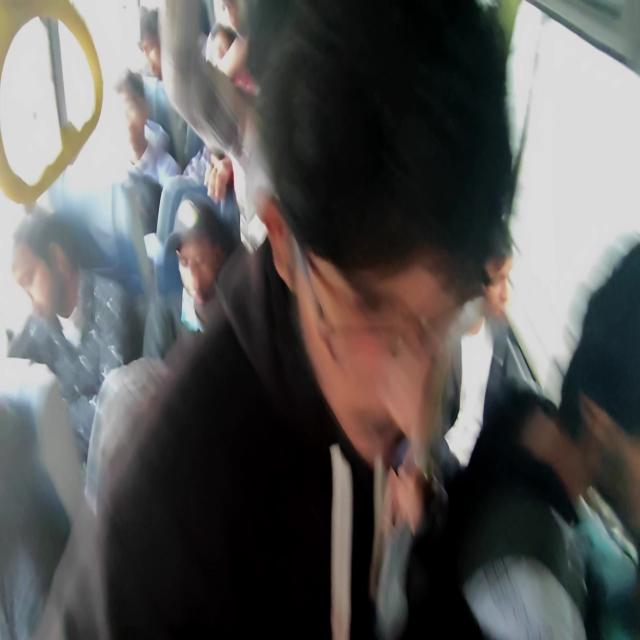person: (246, 20, 501, 478), (545, 234, 640, 598), (0, 427, 79, 640), (8, 201, 105, 331), (463, 163, 523, 362), (207, 30, 282, 163), (112, 90, 169, 196), (167, 238, 222, 302), (136, 5, 175, 87), (203, 152, 245, 210), (214, 0, 233, 23)
